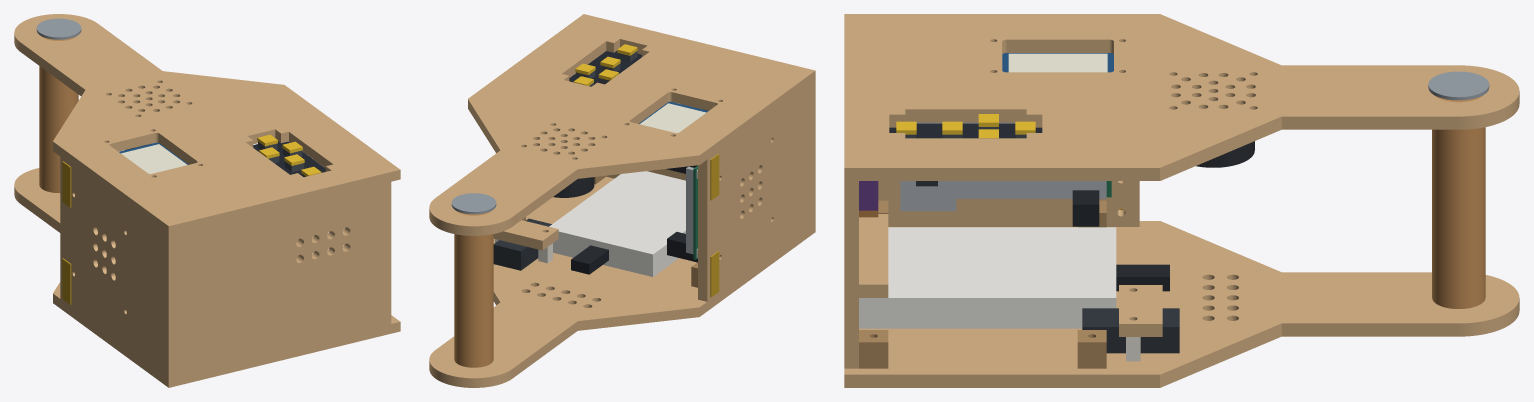
File: house_inside-BHJt58Rd.glb
3 renders of one model, left to right at view 1: azimuth 30°, elevation 25°; view 2: azimuth 150°, elevation 25°; view 3: azimuth 270°, elevation 25°, orthographic. The views are drawn at different scales.
Visible parts, largest first — view 1: house_inside_mesh (×8); view 2: house_inside_mesh (×14); view 3: house_inside_mesh (×13).
Boxes of the visible parts, x1,y1,x2,y2 form: house_inside_mesh (×8): (14, 14, 400, 387); house_inside_mesh (×14): (429, 14, 815, 387); house_inside_mesh (×13): (844, 14, 1519, 387).
Bounding box in the file's own units: 0.1508 × 0.106 × 0.278.
